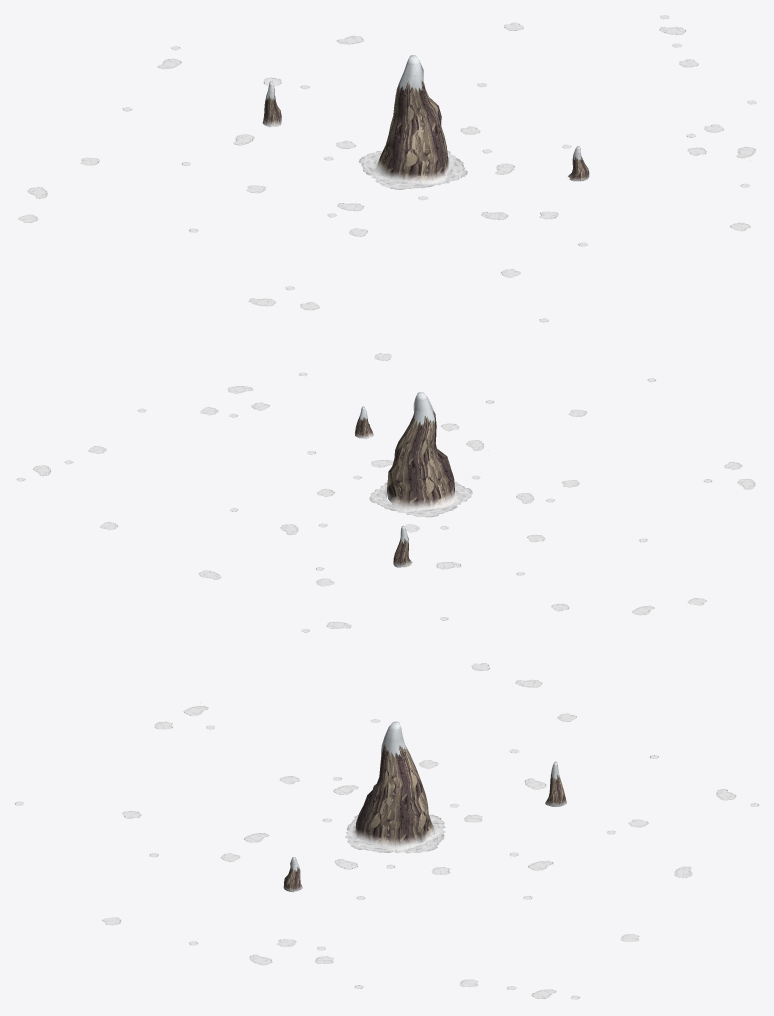
3 views of the same model, one above another, from view 1: azimuth 30°, elevation 25°; view 2: azimuth 150°, elevation 25°; view 3: azimuth 270°, elevation 25° (orthographic). The views are drawn at different scales.
Parts seen in each view (by area): view 1: T4B1M001_64, T4B1M001_63, T4B1M001_56; view 2: T4B1M001_51, T4B1M001_52, T4B1M001_56, T4B1M001_46, T4B1M001_45; view 3: T4B1M001_53, T4B1M001_58, T4B1M001_65, T4B1M001_57.
Boxes of the visible parts, <box> form: T4B1M001_64: <box>413,75,442,161</box>; T4B1M001_63: <box>394,86,422,184</box>; T4B1M001_56: <box>390,62,413,159</box>; T4B1M001_51: <box>413,420,443,512</box>; T4B1M001_52: <box>396,417,423,469</box>; T4B1M001_56: <box>422,398,453,482</box>; T4B1M001_46: <box>389,467,416,511</box>; T4B1M001_45: <box>398,488,431,516</box>; T4B1M001_53: <box>394,771,427,849</box>; T4B1M001_58: <box>376,761,404,849</box>; T4B1M001_65: <box>357,780,384,846</box>; T4B1M001_57: <box>382,721,406,772</box>.
Size of the model in its own units: 154 by 23.06 by 143.
1 material, 1 textured.
